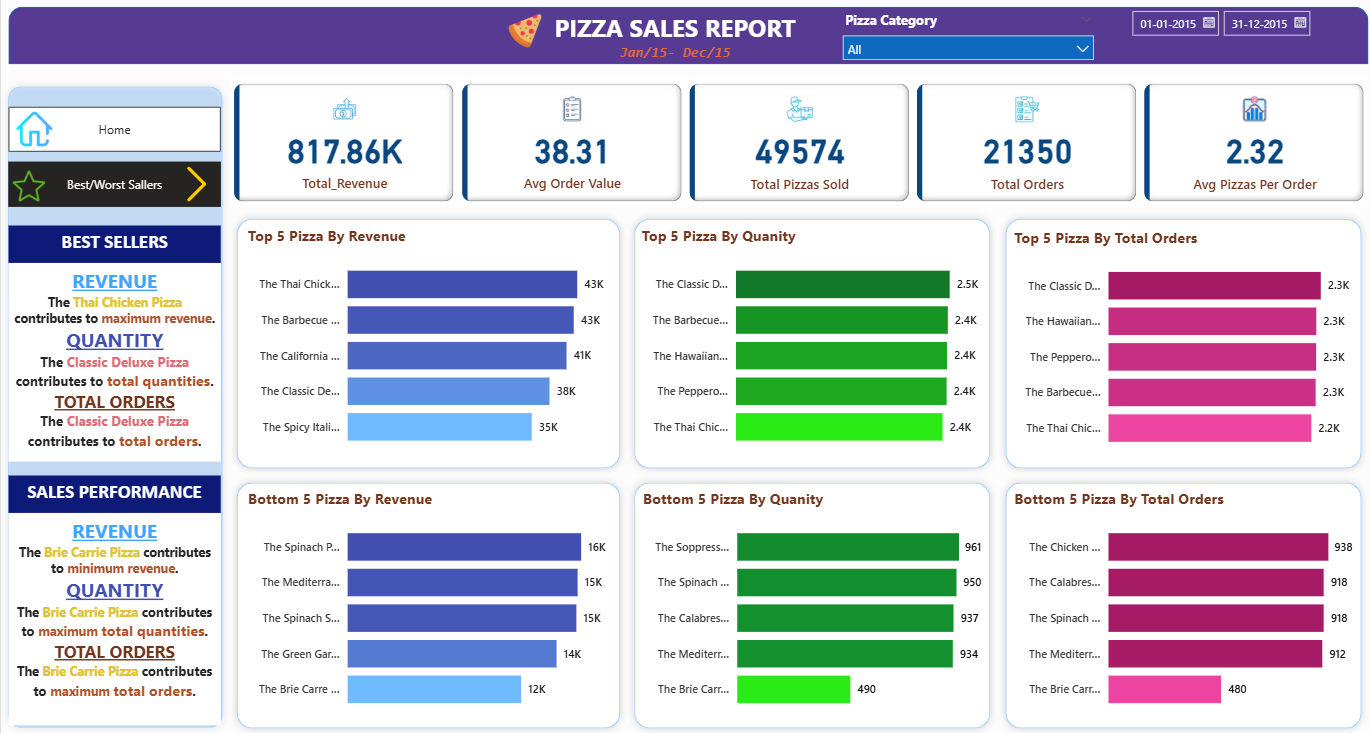

Layout of this report page (visuals, bound fields, positions):
{"tool":"powerbi","page":{"name":"Best/Worst Sallers","canvas":[1530,820],"ordinal":1},"visuals":[{"type":"cardVisual","fields":{"Data":["pizza_sales.Total_Revenue","pizza_sales.Avg Order Value","pizza_sales.Total Pizzas Sold","pizza_sales.Total Orders","pizza_sales.Avg Pizzas Per Order"]},"box":[254.4,90.3,1266.2,141.8],"z":0},{"type":"shape","box":[8.3,9.7,1512.2,63.9],"z":1000},{"type":"textbox","box":[596.3,9.6,306.4,45.3],"z":2000},{"type":"textbox","box":[681.5,45.3,137.4,28.9],"z":3000},{"type":"image","box":[549.6,12.4,67.3,48.1],"z":4000},{"type":"shape","box":[254.4,237.7,442,293.3],"z":5000},{"type":"shape","box":[0,90.7,254.2,729],"z":6000},{"type":"textbox","box":[8.3,253,236.3,41.7],"z":7000},{"type":"textbox","box":[8.3,294.7,236.3,221],"z":8000},{"type":"textbox","box":[8.3,530.9,236.3,41.7],"z":9000},{"type":"textbox","box":[8.3,572.6,236.3,236.3],"z":10000},{"type":"slicer","fields":{"Values":["pizza_sales.pizza_category"]},"box":[926.1,9.6,299.5,64.6],"z":11000},{"type":"slicer","fields":{"Values":["pizza_sales.order_date"]},"box":[1244.8,4.1,228.1,70.1],"z":12000},{"type":"shape","box":[696.3,237.7,411.4,293.3],"z":13000},{"type":"shape","box":[1109.1,237.7,411.4,293.3],"z":14000},{"type":"shape","box":[254.4,530.9,442,289.1],"z":15000},{"type":"shape","box":[696.3,530.9,411.4,289.1],"z":16000},{"type":"shape","box":[1109.1,530.9,411.4,289.1],"z":17000},{"type":"barChart","title":"Top 5 Pizza By Revenue","fields":{"Category":["pizza_sales.pizza_name"],"Y":["pizza_sales.Total_Revenue"]},"box":[269.6,253,411.4,261.3],"z":18000},{"type":"barChart","title":"Bottom 5 Pizza By Revenue","fields":{"Category":["pizza_sales.pizza_name"],"Y":["pizza_sales.Total_Revenue"]},"box":[269.6,544.8,411.4,261.3],"z":19000},{"type":"barChart","title":"Top 5 Pizza By Quanity","fields":{"Category":["pizza_sales.pizza_name"],"Y":["pizza_sales.Total Pizzas Sold"]},"box":[707.5,253,386.4,261.3],"z":20000},{"type":"barChart","title":"Bottom 5 Pizza By Quanity","fields":{"Category":["pizza_sales.pizza_name"],"Y":["pizza_sales.Total Pizzas Sold"]},"box":[708.9,544.8,386.4,261.3],"z":21000},{"type":"barChart","title":"Top 5 Pizza By Total Orders","fields":{"Category":["pizza_sales.pizza_name"],"Y":["pizza_sales.Total Orders"]},"box":[1121.7,254.4,386.4,261.3],"z":22000},{"type":"barChart","title":"Bottom 5 Pizza By Total Orders","fields":{"Category":["pizza_sales.pizza_name"],"Y":["pizza_sales.Total Orders"]},"box":[1121.7,544.8,386.4,261.3],"z":23000},{"type":"pageNavigator","box":[8.3,182.1,236.3,50],"z":23001},{"type":"pageNavigator","box":[8.3,120.9,236.3,50],"z":23002},{"type":"image","box":[190.4,182.1,54.2,50],"z":23003},{"type":"image","box":[8.3,120.9,58.4,50],"z":23004},{"type":"image","box":[8.3,186.2,45.9,45.9],"z":23005}]}

Visuals, with their boxes in screenshot pixels (x1, y1, x2, y2), scaled from the page's 1530x820 canvas onto the 1370x733 screenshot:
cardVisual - pizza_sales.Total_Revenue x pizza_sales.Avg Order Value: bbox=[228, 81, 1362, 207]
shape: bbox=[7, 9, 1361, 66]
textbox: bbox=[534, 9, 808, 49]
textbox: bbox=[610, 40, 733, 66]
image: bbox=[492, 11, 552, 54]
shape: bbox=[228, 212, 624, 475]
shape: bbox=[0, 81, 228, 732]
textbox: bbox=[7, 226, 219, 263]
textbox: bbox=[7, 263, 219, 461]
textbox: bbox=[7, 475, 219, 512]
textbox: bbox=[7, 512, 219, 723]
slicer - pizza_sales.pizza_category: bbox=[829, 9, 1097, 66]
slicer - pizza_sales.order_date: bbox=[1115, 4, 1319, 66]
shape: bbox=[623, 212, 992, 475]
shape: bbox=[993, 212, 1361, 475]
shape: bbox=[228, 475, 624, 732]
shape: bbox=[623, 475, 992, 732]
shape: bbox=[993, 475, 1361, 732]
"Top 5 Pizza By Revenue" barChart: bbox=[241, 226, 610, 460]
"Bottom 5 Pizza By Revenue" barChart: bbox=[241, 487, 610, 721]
"Top 5 Pizza By Quanity" barChart: bbox=[634, 226, 980, 460]
"Bottom 5 Pizza By Quanity" barChart: bbox=[635, 487, 981, 721]
"Top 5 Pizza By Total Orders" barChart: bbox=[1004, 227, 1350, 461]
"Bottom 5 Pizza By Total Orders" barChart: bbox=[1004, 487, 1350, 721]
pageNavigator: bbox=[7, 163, 219, 207]
pageNavigator: bbox=[7, 108, 219, 153]
image: bbox=[170, 163, 219, 207]
image: bbox=[7, 108, 60, 153]
image: bbox=[7, 166, 49, 207]
